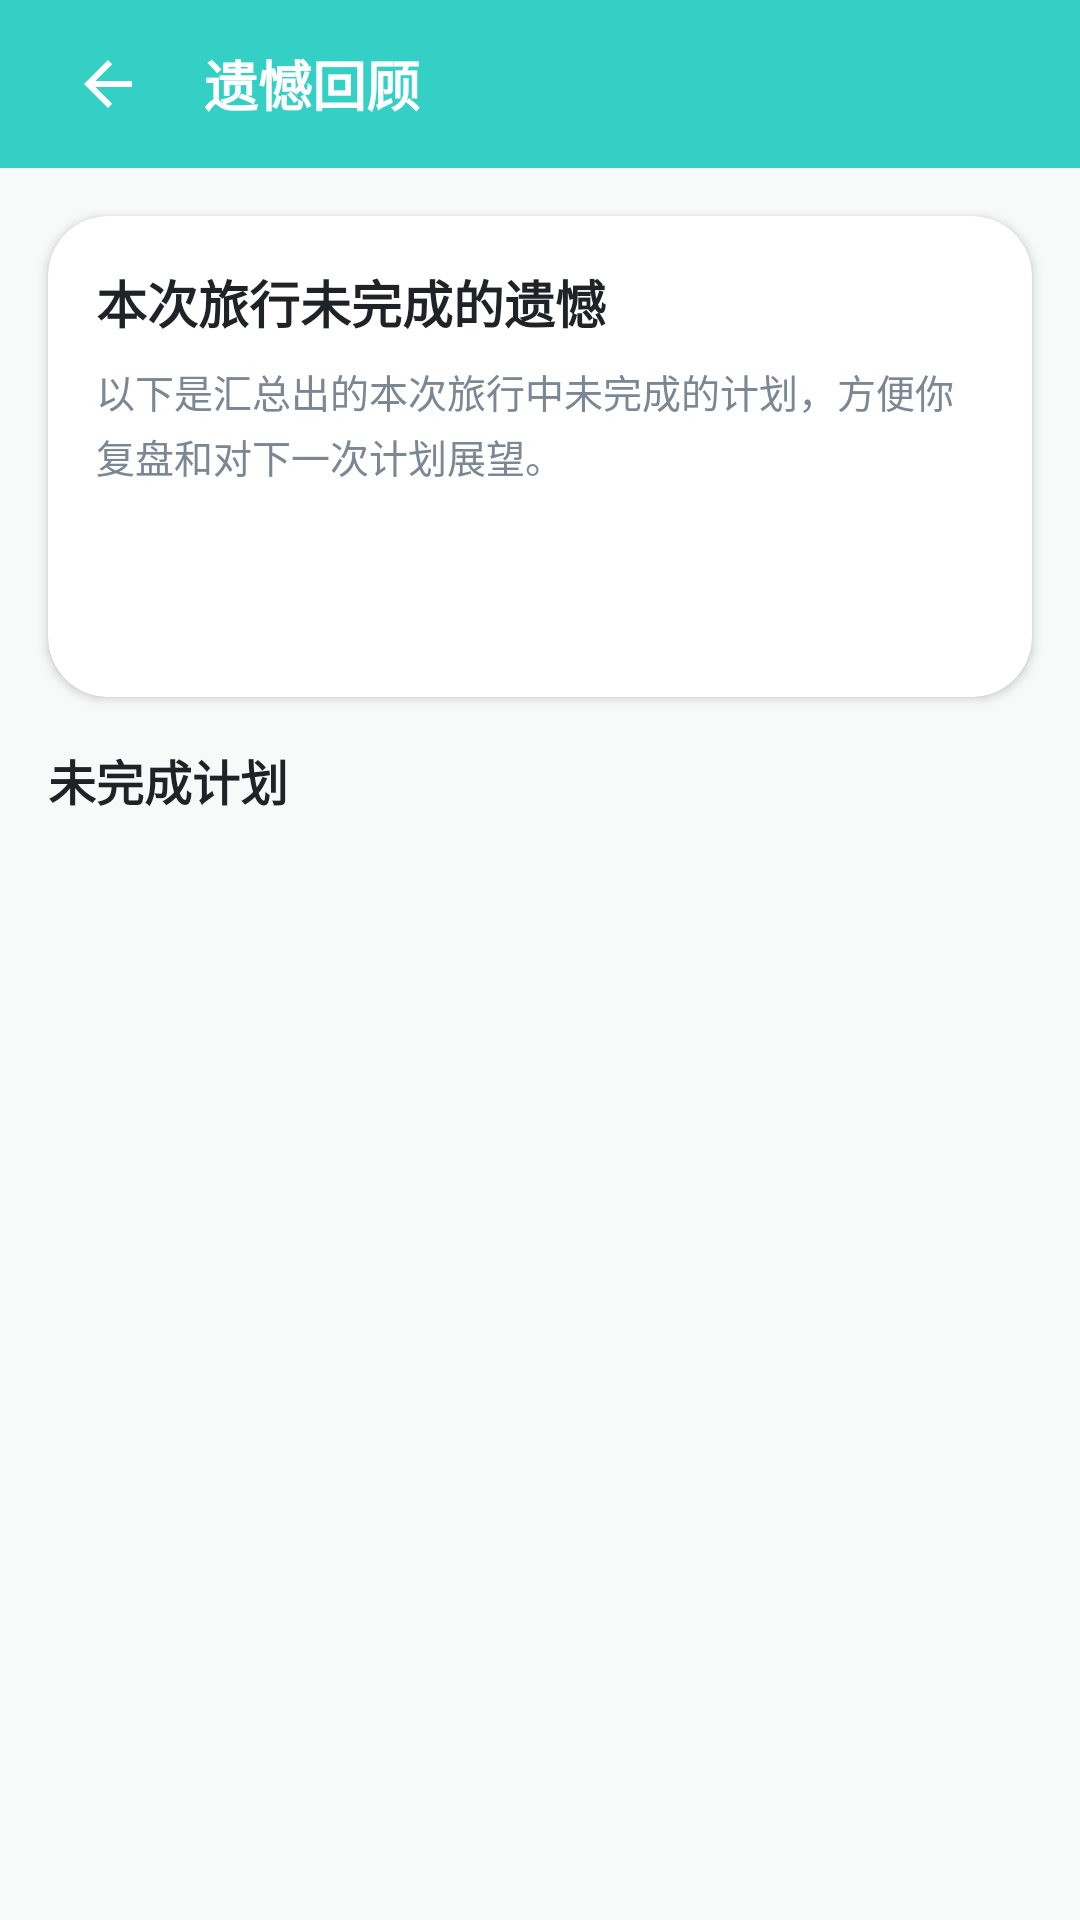

Icon bounding boxes for this 1080 x 1920 phone screenshot, format (x1, y1, x2, y2):
返回: (84, 60, 132, 108)
